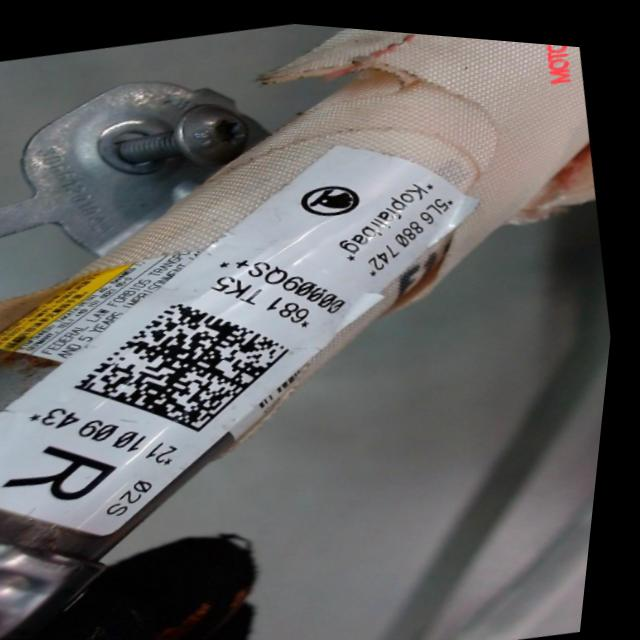datamatrix: (63, 271, 315, 458)
